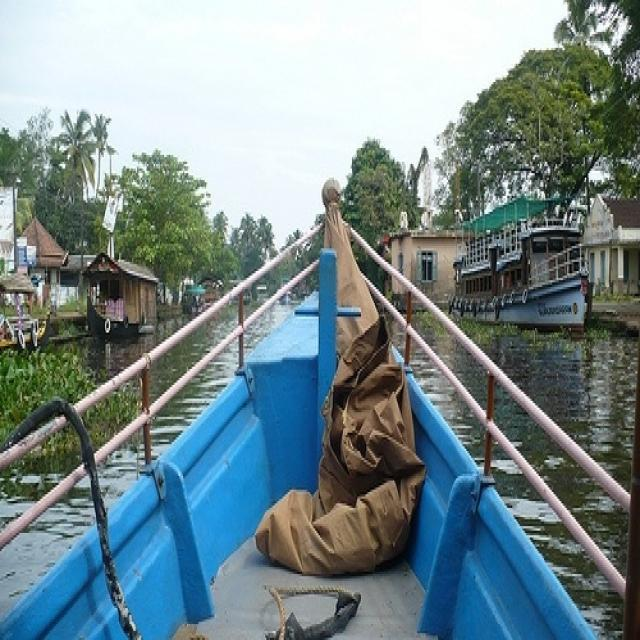Hyacinth: (2, 353, 138, 450), (414, 313, 584, 349)
boat: (434, 222, 602, 342), (74, 253, 164, 343), (183, 282, 210, 318)
